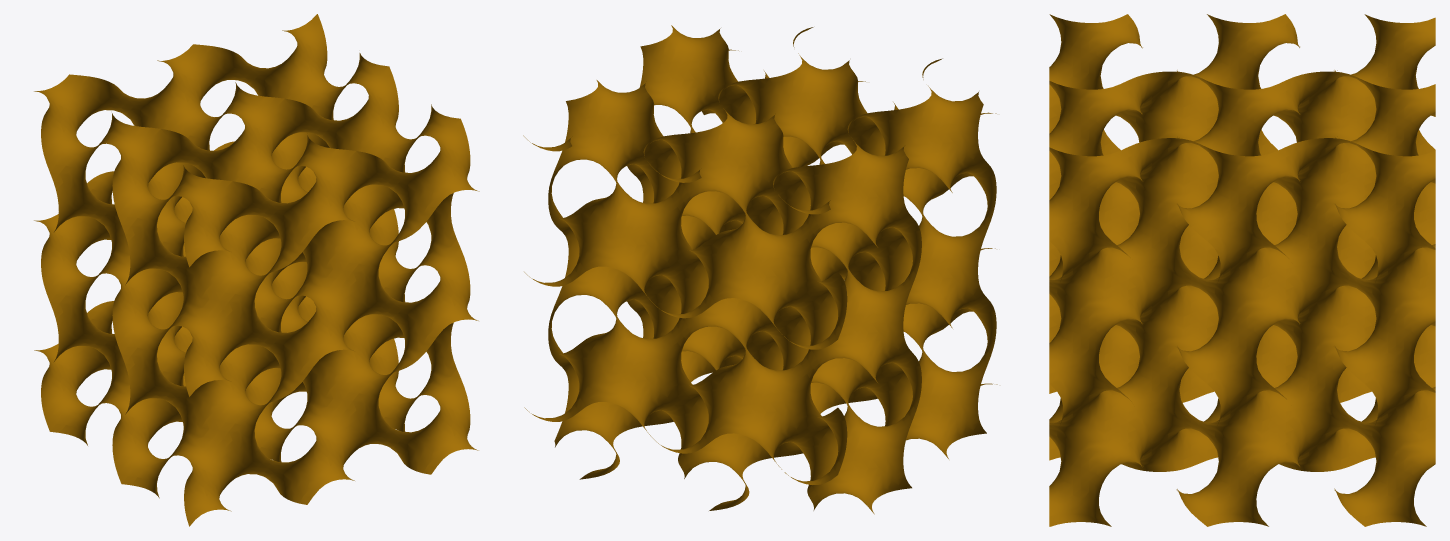
Rendered from unit_non_period2.glb.
3 views of the same model, side by side, from view 1: azimuth 30°, elevation 25°; view 2: azimuth 150°, elevation 25°; view 3: azimuth 270°, elevation 25° (orthographic). The views are drawn at different scales.
Visible parts, largest first — view 1: world; view 2: world; view 3: world.
Part boxes in pixels (x1=…): world: x1=34, y1=14, x2=479, y2=526; world: x1=523, y1=25, x2=997, y2=514; world: x1=1049, y1=14, x2=1435, y2=526.
Bounding box in the file's own units: 49 × 49 × 49.
